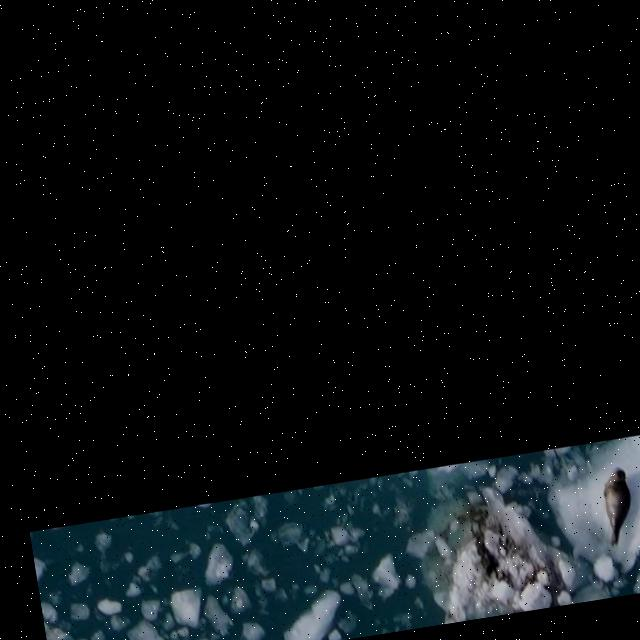seal: (604, 469, 632, 548)
